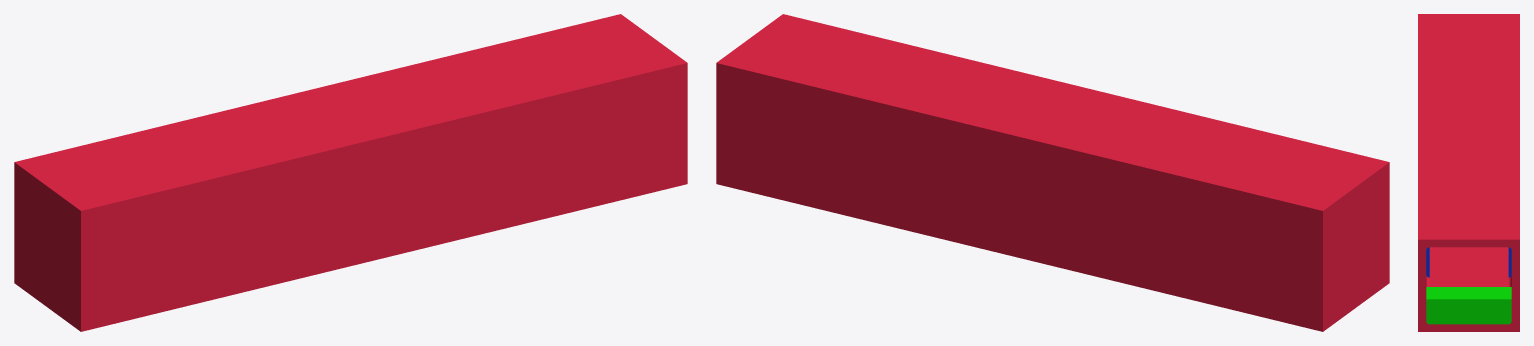
The model's file is jeujamdecor.fbx.
3 renders of one model, left to right at view 1: azimuth 30°, elevation 25°; view 2: azimuth 150°, elevation 25°; view 3: azimuth 270°, elevation 25°, orthographic. The views are drawn at different scales.
Visible parts, largest first — view 1: Cube.001; view 2: Cube.001; view 3: Cube.001, Cube.002, Cube.005.
Boxes of the visible parts, x1,y1,x2,y2 form: Cube.001: (14,14,687,331); Cube.001: (716,14,1389,331); Cube.001: (1418,14,1519,331); Cube.002: (1426,287,1511,324); Cube.005: (1426,247,1511,277).
Size of the model in its own units: 2908 by 555 by 555.
